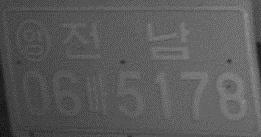0: (22, 69, 51, 119)
1: (148, 69, 175, 121)
5: (116, 70, 143, 120)
6: (51, 70, 81, 118)
7: (179, 69, 210, 123)
8: (214, 70, 248, 121)
바: (82, 71, 110, 116)
영: (14, 17, 51, 63)
전남_D: (58, 20, 191, 63)
